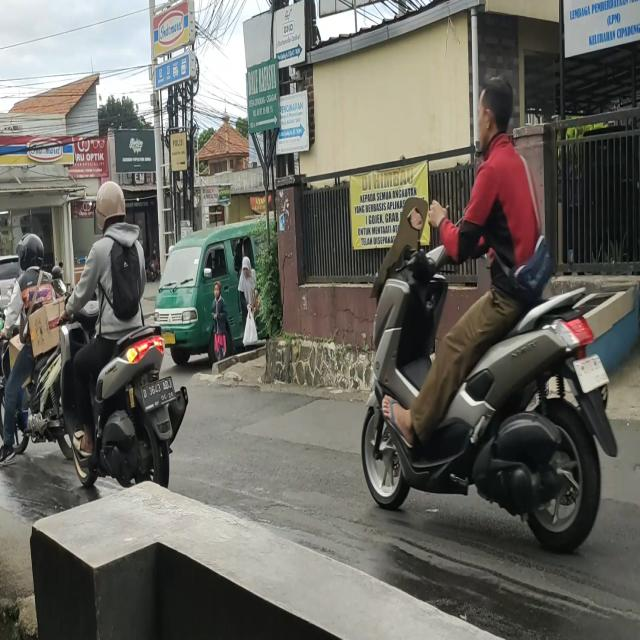helmet: (94, 184, 128, 229), (18, 228, 45, 277)
no-helmet: (474, 76, 512, 145)
